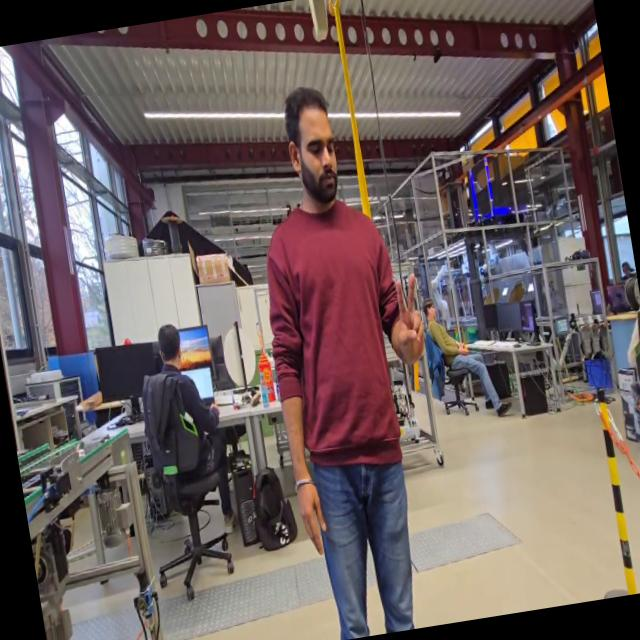v_sign: (380, 269, 432, 372)
